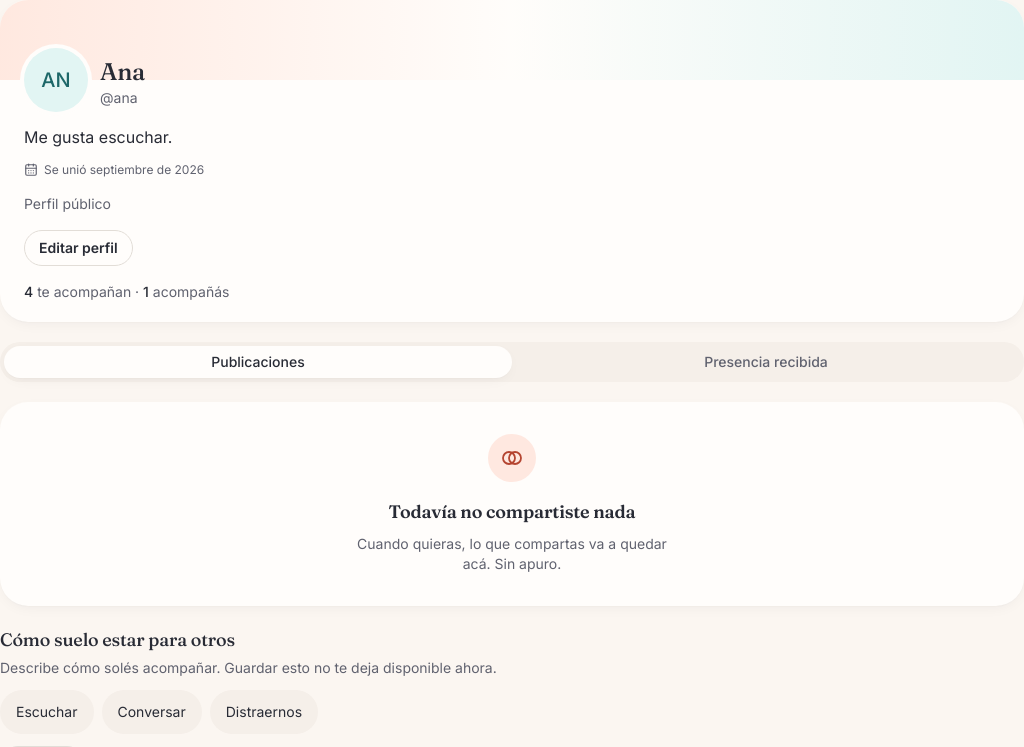
ProfilePage › lets me pick an illustrated avatar instead of uploading a photo
The image size is (1024, 747).
Click the button with aria-label "Cambiar avatar" at (56, 80), box [24,48,88,112]
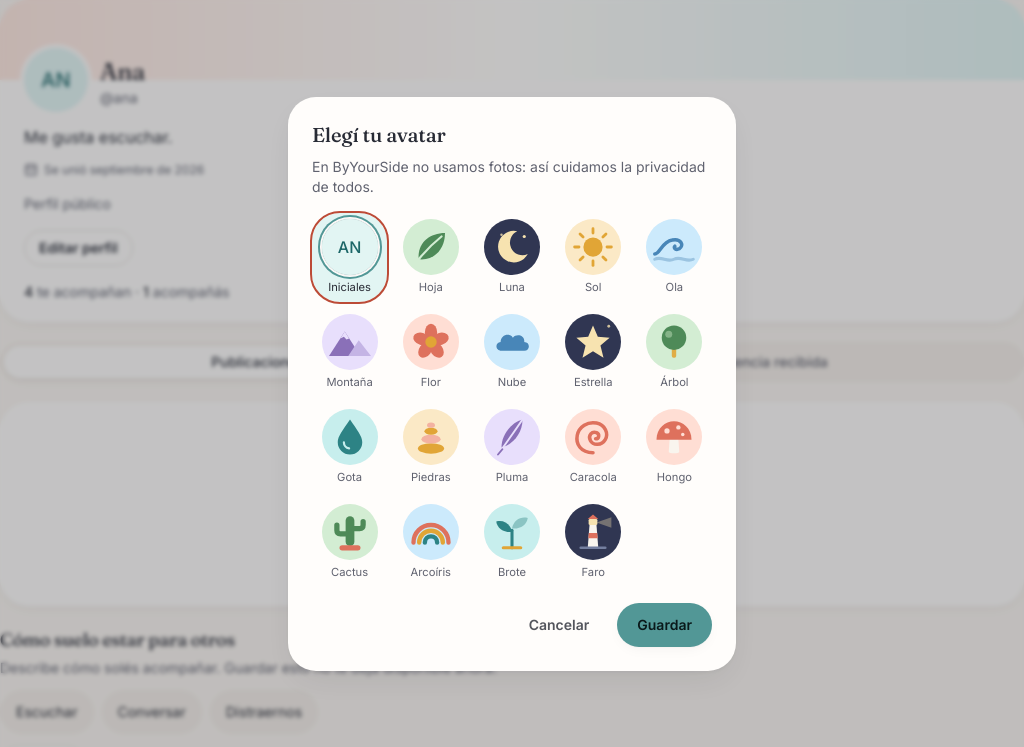
Click the radio button labelled "Luna" at (512, 257), box [484,219,540,294]
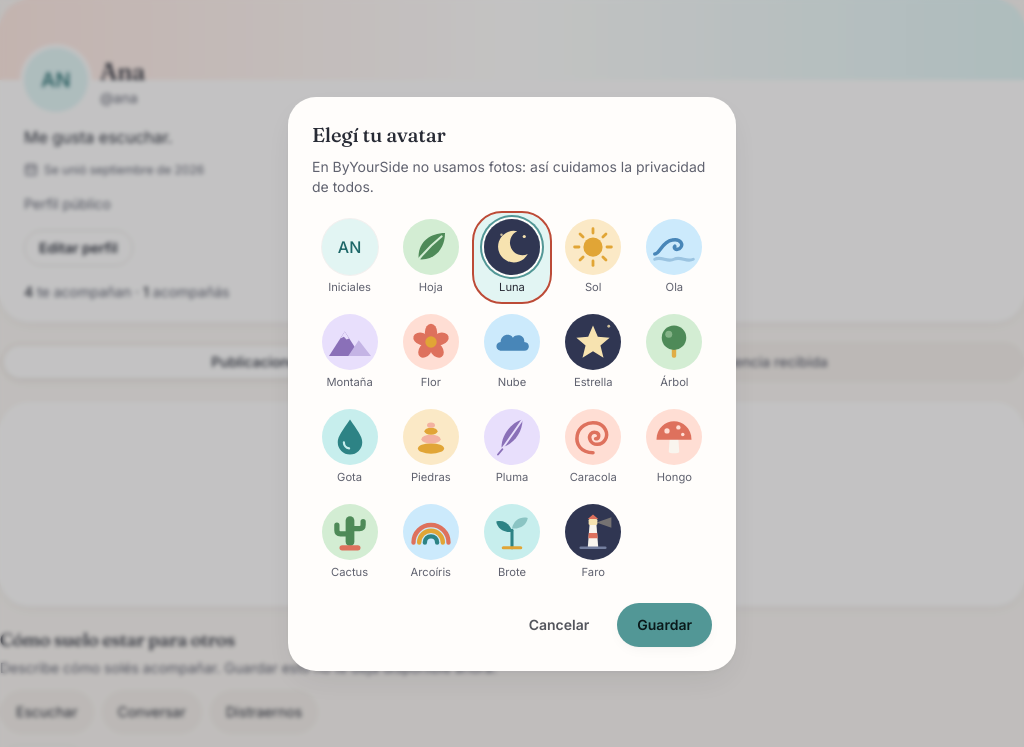
Click the button "Guardar" at (665, 625), box [617,603,712,647]
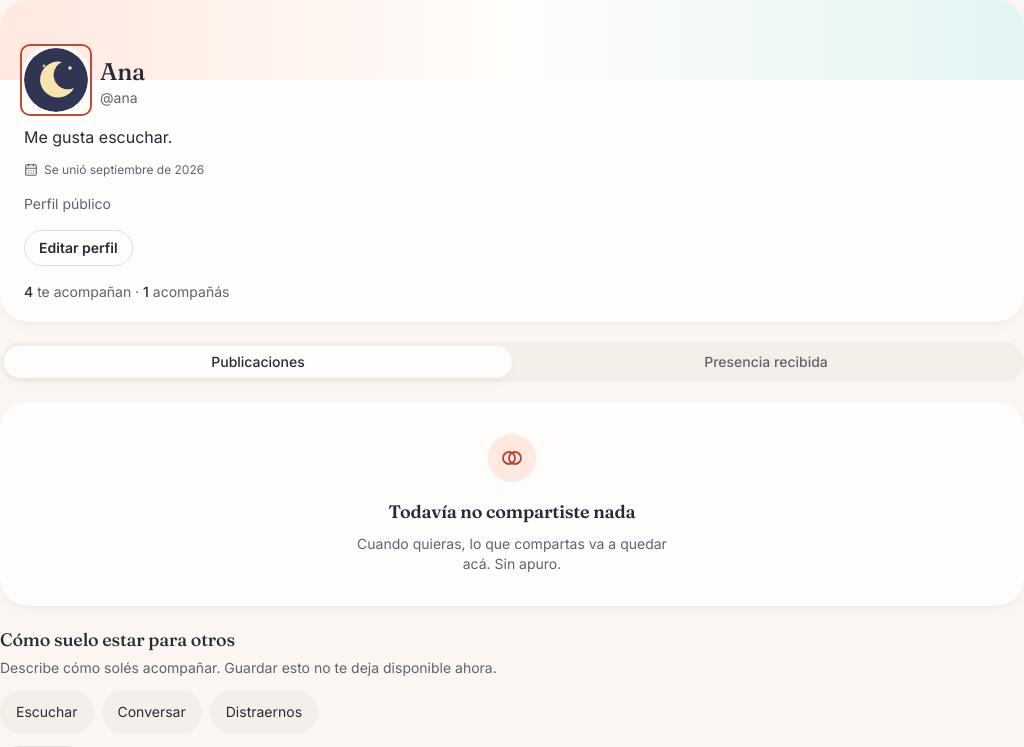
Now the heading "Elegí tu avatar" is gone
